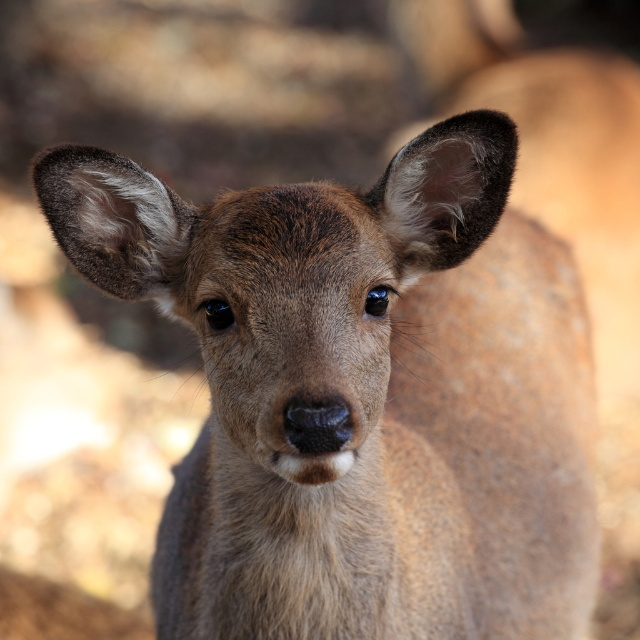Deer: (30, 108, 602, 640)
